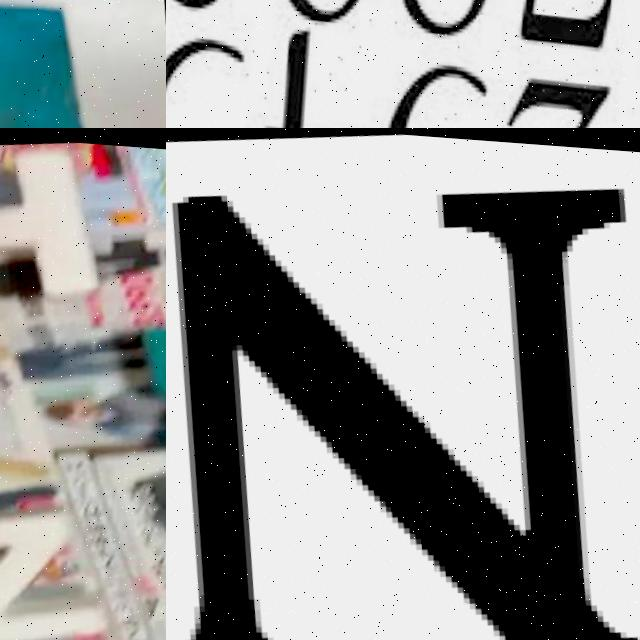2: (465, 49, 640, 128)
3: (349, 38, 523, 128)
4: (220, 4, 407, 128)
5: (166, 18, 279, 128)
H: (0, 140, 104, 315)
N: (166, 136, 640, 640)
V: (0, 0, 133, 128)
Z: (0, 491, 109, 640)
